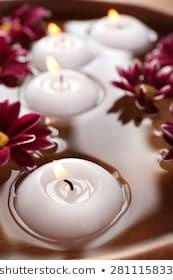fire: (43, 20, 65, 40), (103, 5, 122, 27)
